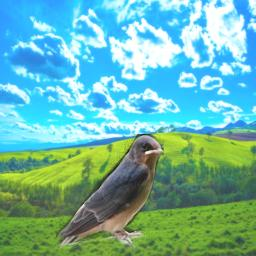Swallow: (56, 134, 164, 250)
